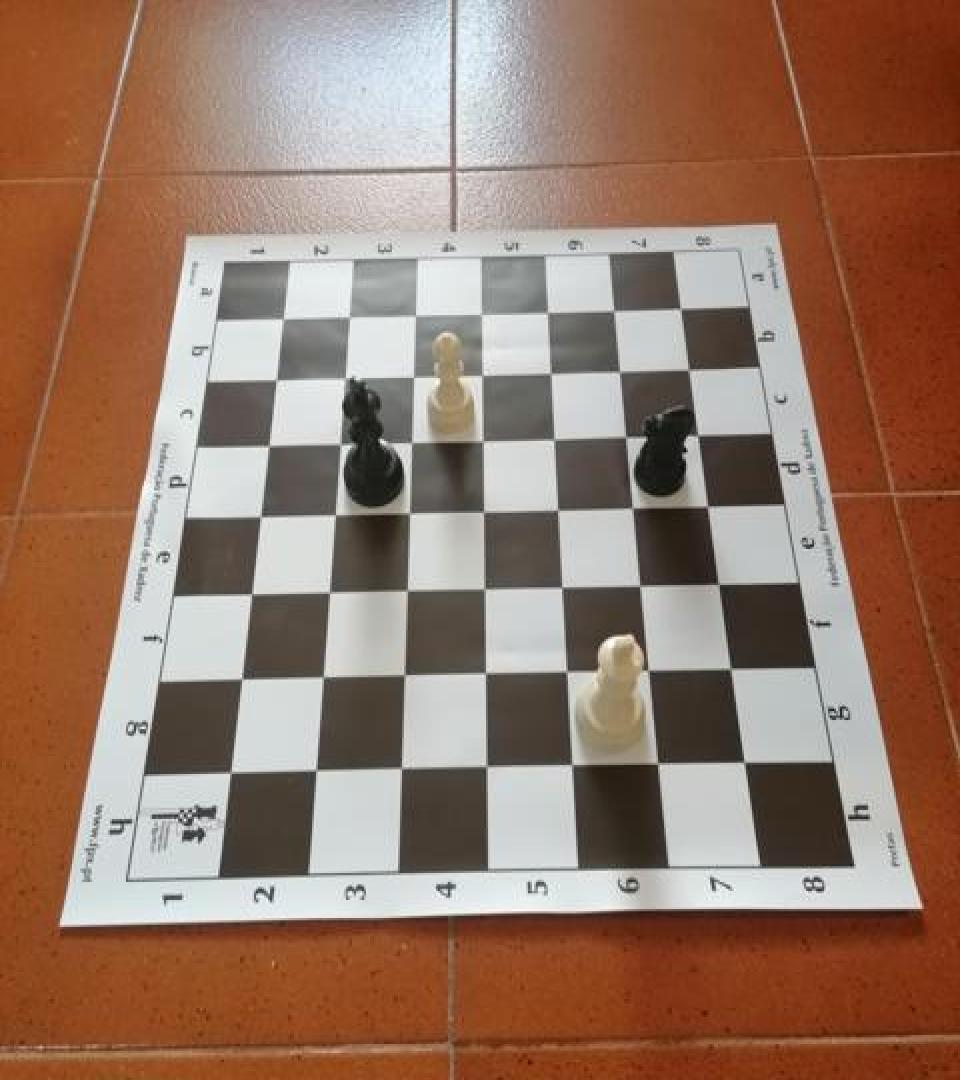xcorner: (667, 288, 697, 322), (600, 290, 630, 324), (466, 296, 496, 330), (400, 298, 430, 332), (333, 300, 363, 334), (267, 302, 297, 336), (675, 350, 705, 384), (605, 352, 635, 386), (536, 354, 566, 388), (466, 356, 496, 390), (397, 359, 427, 393), (328, 361, 358, 395), (260, 363, 290, 397), (684, 416, 714, 450), (611, 418, 641, 452), (467, 423, 497, 457), (395, 425, 425, 459), (323, 428, 353, 462), (252, 430, 282, 464), (694, 488, 724, 522), (618, 490, 648, 524), (467, 495, 497, 529), (392, 497, 422, 531), (317, 498, 347, 532), (705, 566, 735, 600), (625, 568, 655, 602), (546, 570, 576, 604), (467, 572, 497, 606), (389, 575, 419, 609), (311, 577, 341, 611), (233, 579, 263, 613), (633, 654, 663, 688), (550, 656, 580, 690), (468, 658, 498, 692), (386, 660, 416, 694), (304, 662, 334, 696), (223, 665, 253, 699), (729, 747, 759, 781), (642, 749, 672, 783), (554, 750, 584, 784), (468, 752, 498, 786), (382, 754, 412, 788), (296, 756, 326, 790), (211, 758, 241, 792), (533, 293, 563, 326), (539, 421, 569, 454), (542, 493, 572, 526), (243, 501, 273, 534), (716, 653, 746, 686)
